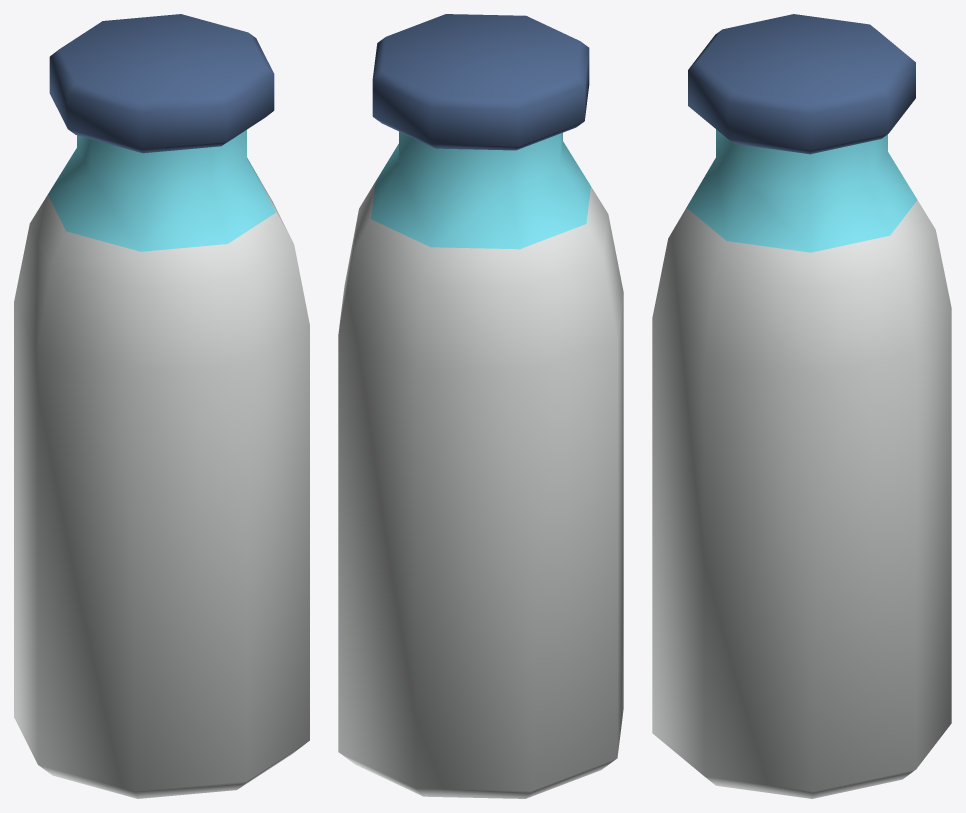
File: milk bottle.FBX
3 renders of one model, left to right at view 1: azimuth 30°, elevation 25°; view 2: azimuth 150°, elevation 25°; view 3: azimuth 270°, elevation 25°, orthographic.
Visible parts, largest first — view 1: Milk_Bottle; view 2: Milk_Bottle; view 3: Milk_Bottle.
Part boxes in pixels (x1=…): Milk_Bottle: x1=14, y1=14, x2=309, y2=798; Milk_Bottle: x1=338, y1=14, x2=623, y2=798; Milk_Bottle: x1=652, y1=14, x2=951, y2=798.
Bounding box in the file's own units: 30.37 × 76.66 × 30.37.
